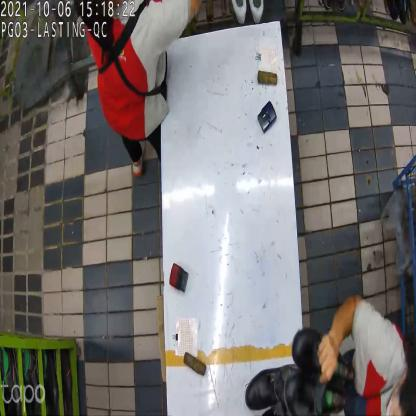shoes: (242, 360, 318, 415)
stamp: (170, 262, 192, 296), (258, 100, 276, 136)
